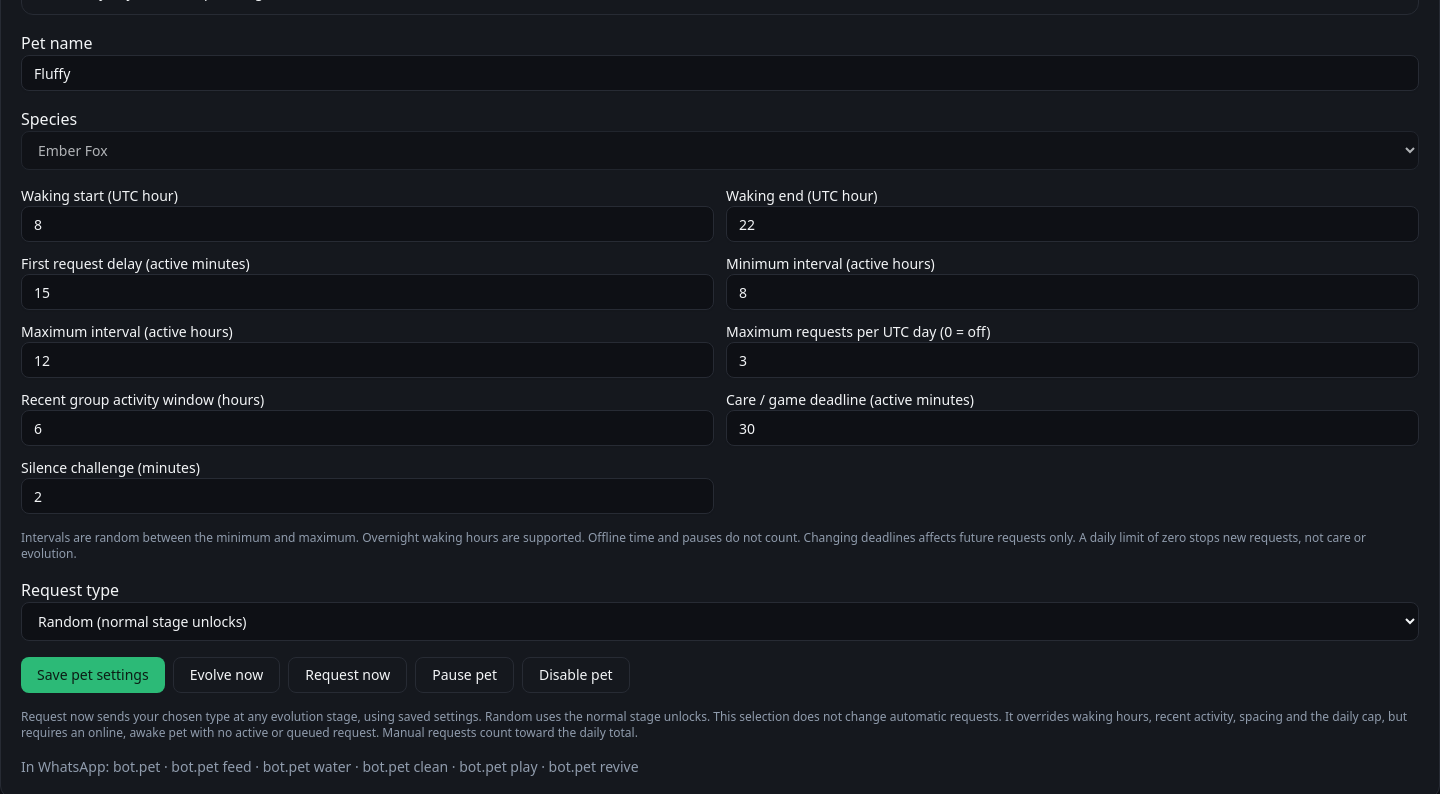
it: group pet editor › surfaces evolution failure without claiming success
(page scrolled)
Click the button "Evolve now": (226, 675) [173, 657, 280, 693]
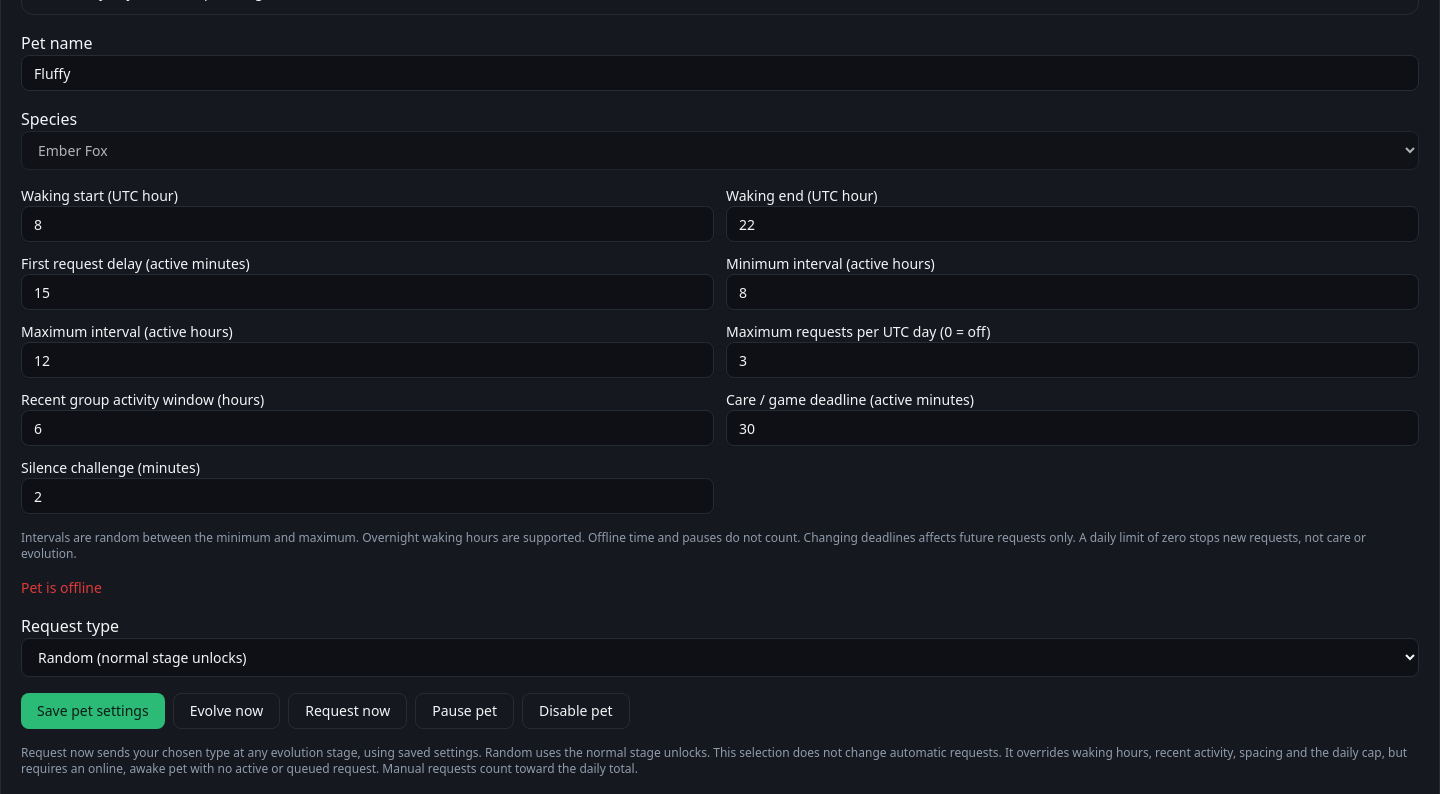
expect the message shows "offline": met, box [21, 578, 102, 597]
